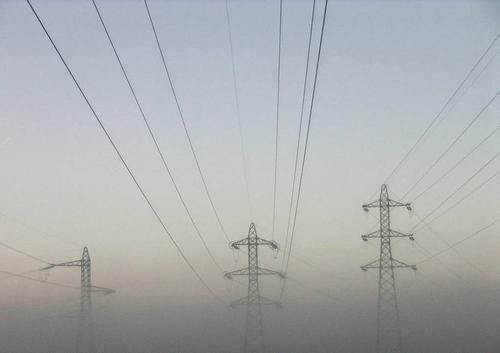power_tower: (360, 181, 419, 350), (227, 220, 290, 353), (50, 239, 117, 352)
